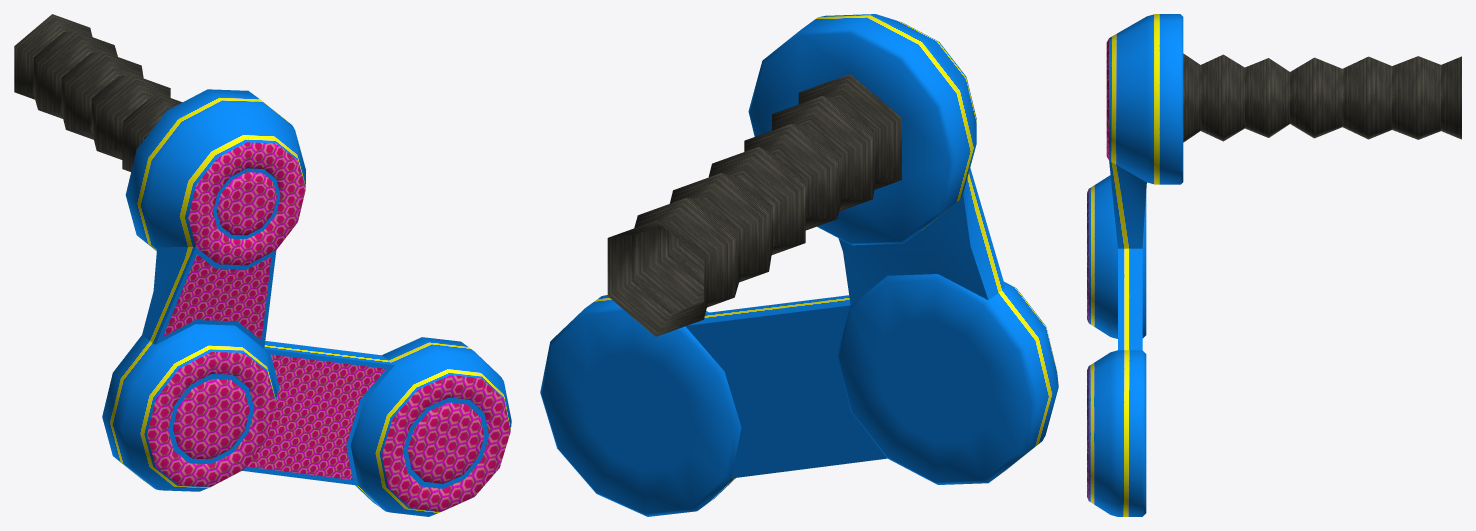
The model's file is MachineBossArm.fbx.
3 renders of one model, left to right at view 1: azimuth 30°, elevation 25°; view 2: azimuth 150°, elevation 25°; view 3: azimuth 270°, elevation 25°, orthographic. The views are drawn at different scales.
Parts seen in each view (by area): view 1: BossArm; view 2: BossArm; view 3: BossArm.
Part boxes in pixels (x1,y1,x2,y2): BossArm: (14,14,511,516); BossArm: (540,14,1058,516); BossArm: (1087,14,1461,516).
Size of the model in its own units: 210452 by 227672 by 191421.
3 materials, 3 textured.
